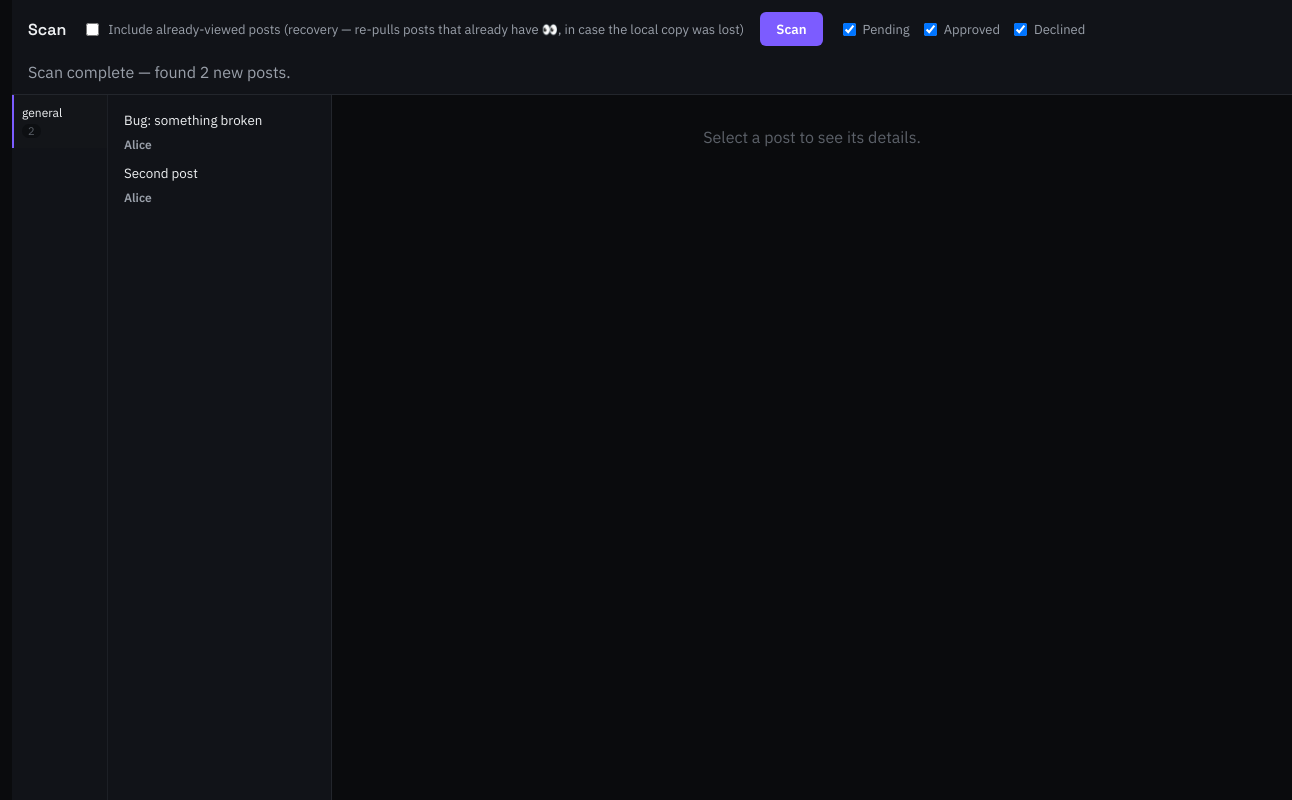
Test: ScanPanel › keeps the full post list intact and unaffected when switching the selected post
Click the button "Bug: something broken": (220, 120) 116,103 -> 323,137
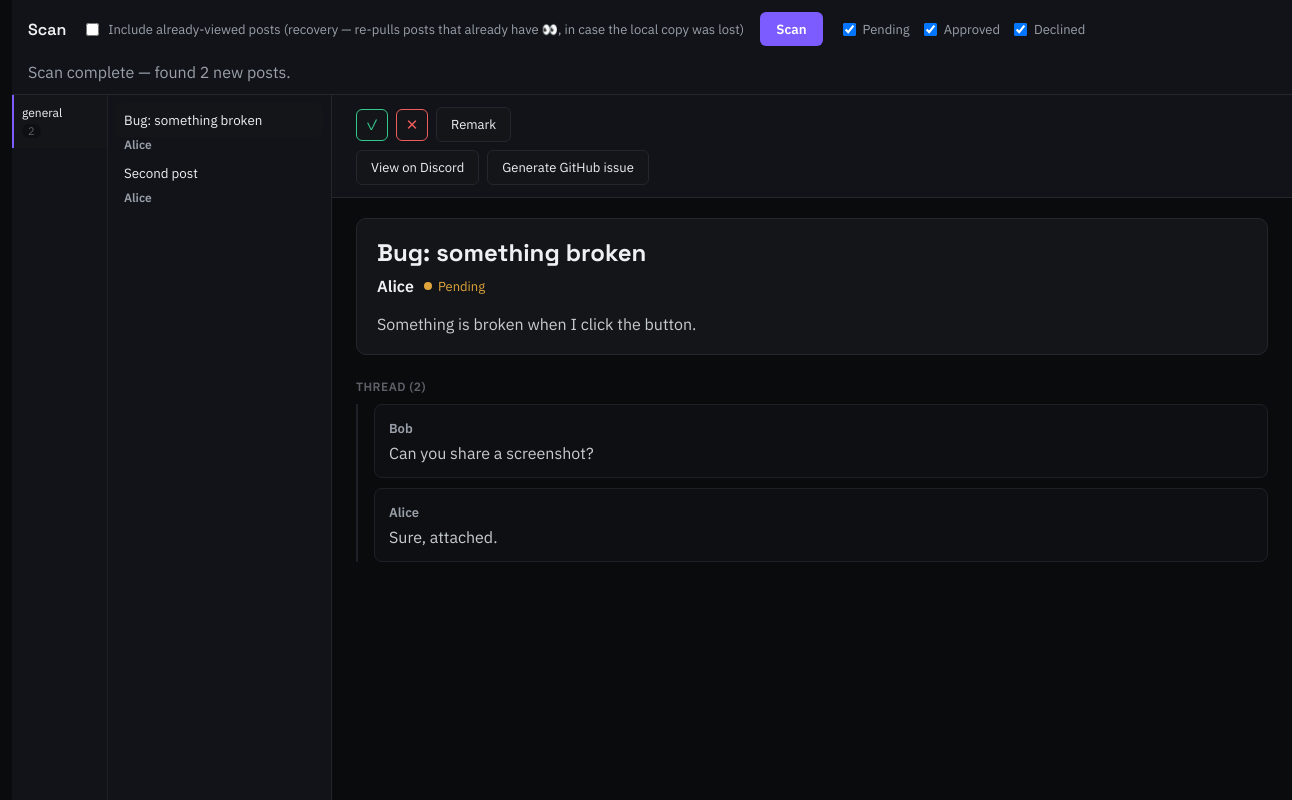
Expected: the text "Something is broken when I click the button." is shown, 377,314 -> 696,334
Click the button "Second post": (220, 173) 116,156 -> 323,190
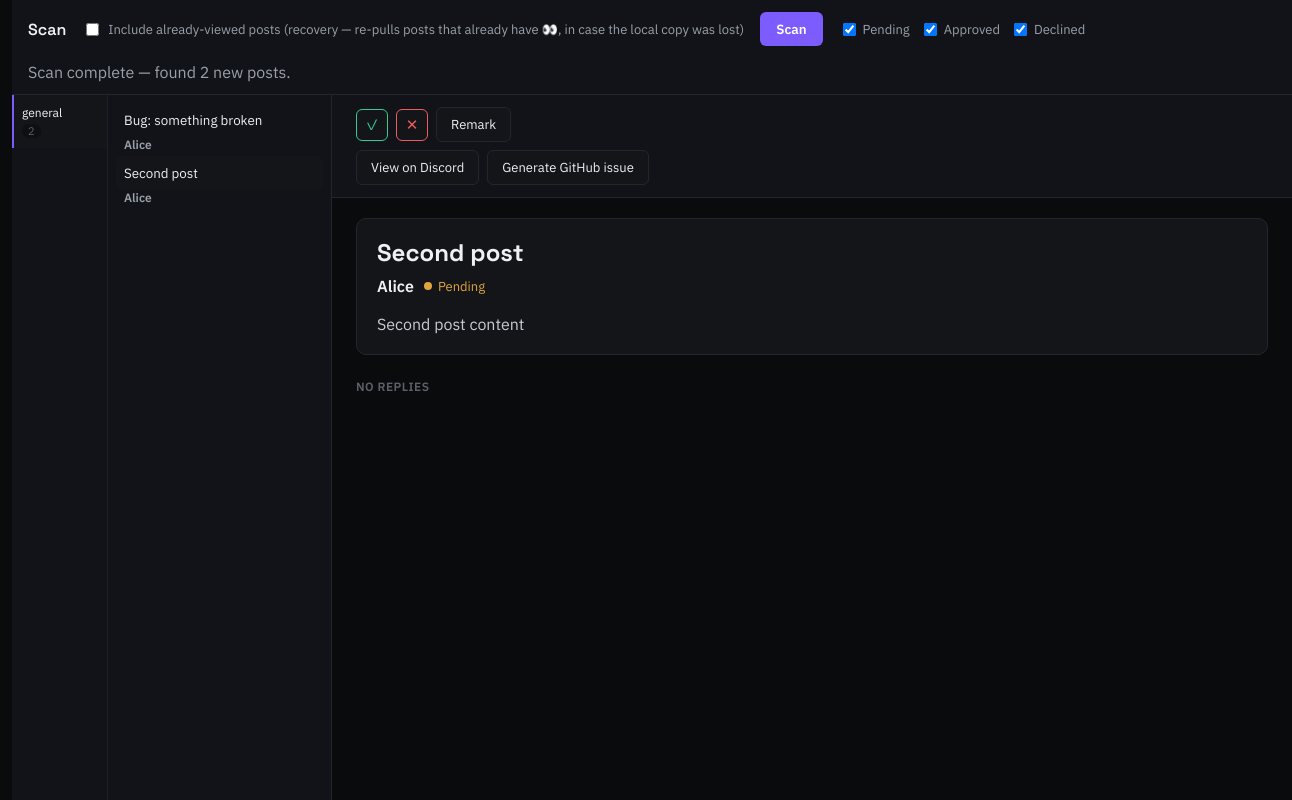
Expected: the button "Bug: something broken" is shown, 116,103 -> 323,137
Expected: the text "Second post content" is shown, 377,314 -> 524,334
